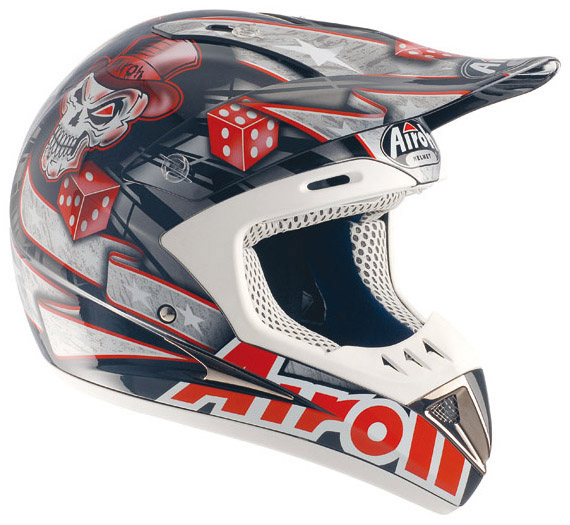helmet: (8, 13, 321, 452)
